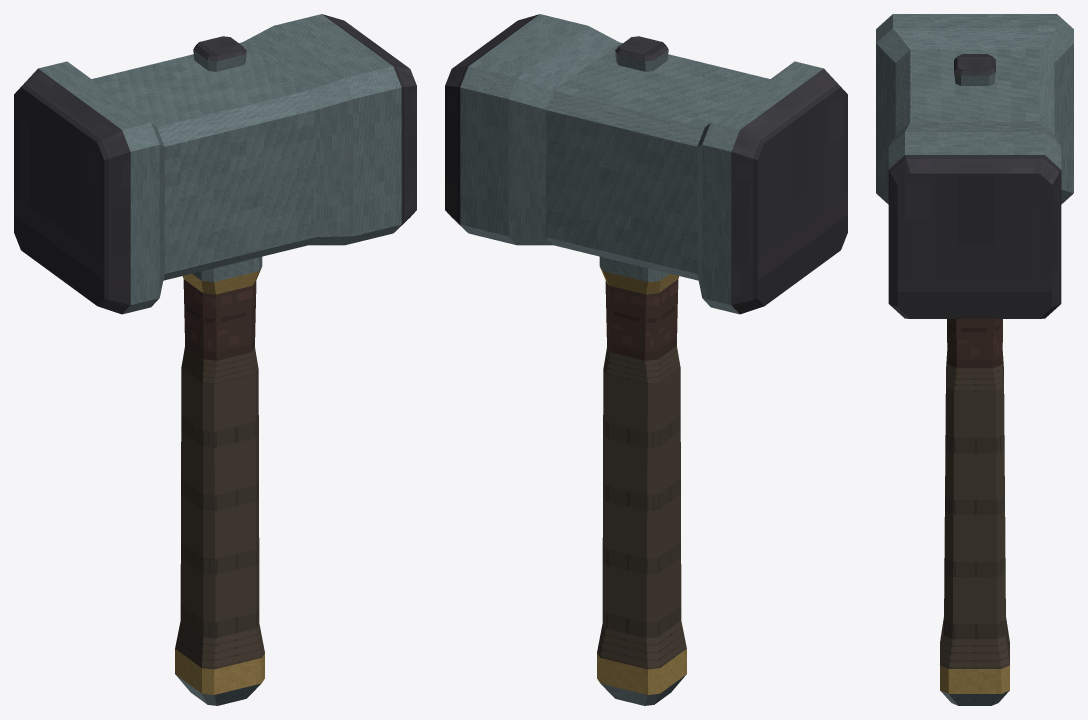
The model's file is forging_hammer.obj.
The picture shows the model from 3 angles, left to right: view 1: azimuth 30°, elevation 25°; view 2: azimuth 150°, elevation 25°; view 3: azimuth 270°, elevation 25°; orthographic projection. The views are drawn at different scales.
Parts seen in each view (by area): view 1: geometry; view 2: geometry; view 3: geometry.
Boxes of the visible parts, x1,y1,x2,y2 form: geometry: (14,14,416,705); geometry: (445,14,847,705); geometry: (876,14,1073,705).
Size of the model in its own units: 0.3338 by 0.6494 by 0.1838.
